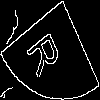R: (25, 25, 68, 79)
